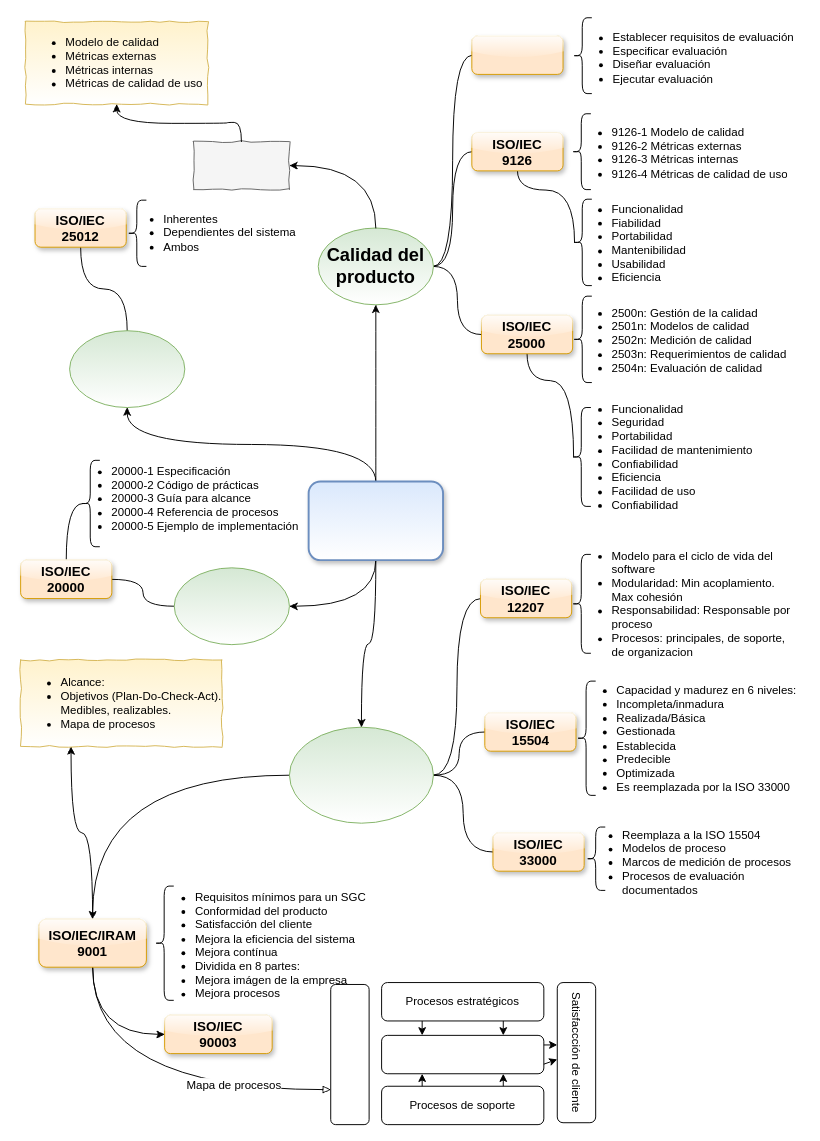
This 820x1141 diagram has some shape labels left out. The centre of each missing label's shape, as x and y in pixels:
Calidad de datos: point (127, 369)
Calidad de proceso de software: point (360, 774)
Calidad de producto de software: point (240, 165)
Calidad de servicio: point (231, 606)
Calidad del software: point (376, 521)
ISO/IEC 14598: point (518, 56)
Procesos de operación: point (462, 1054)
Requerimientos de cliente: point (349, 1054)
